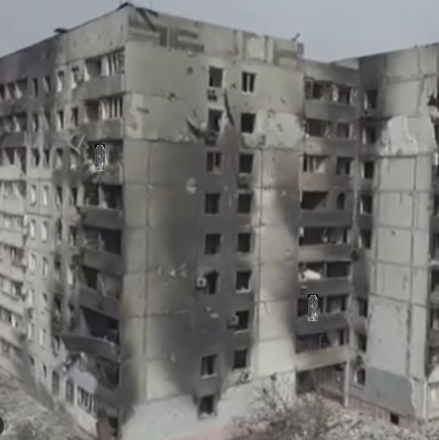HVT1: (308, 295, 318, 321), (95, 145, 105, 169)
